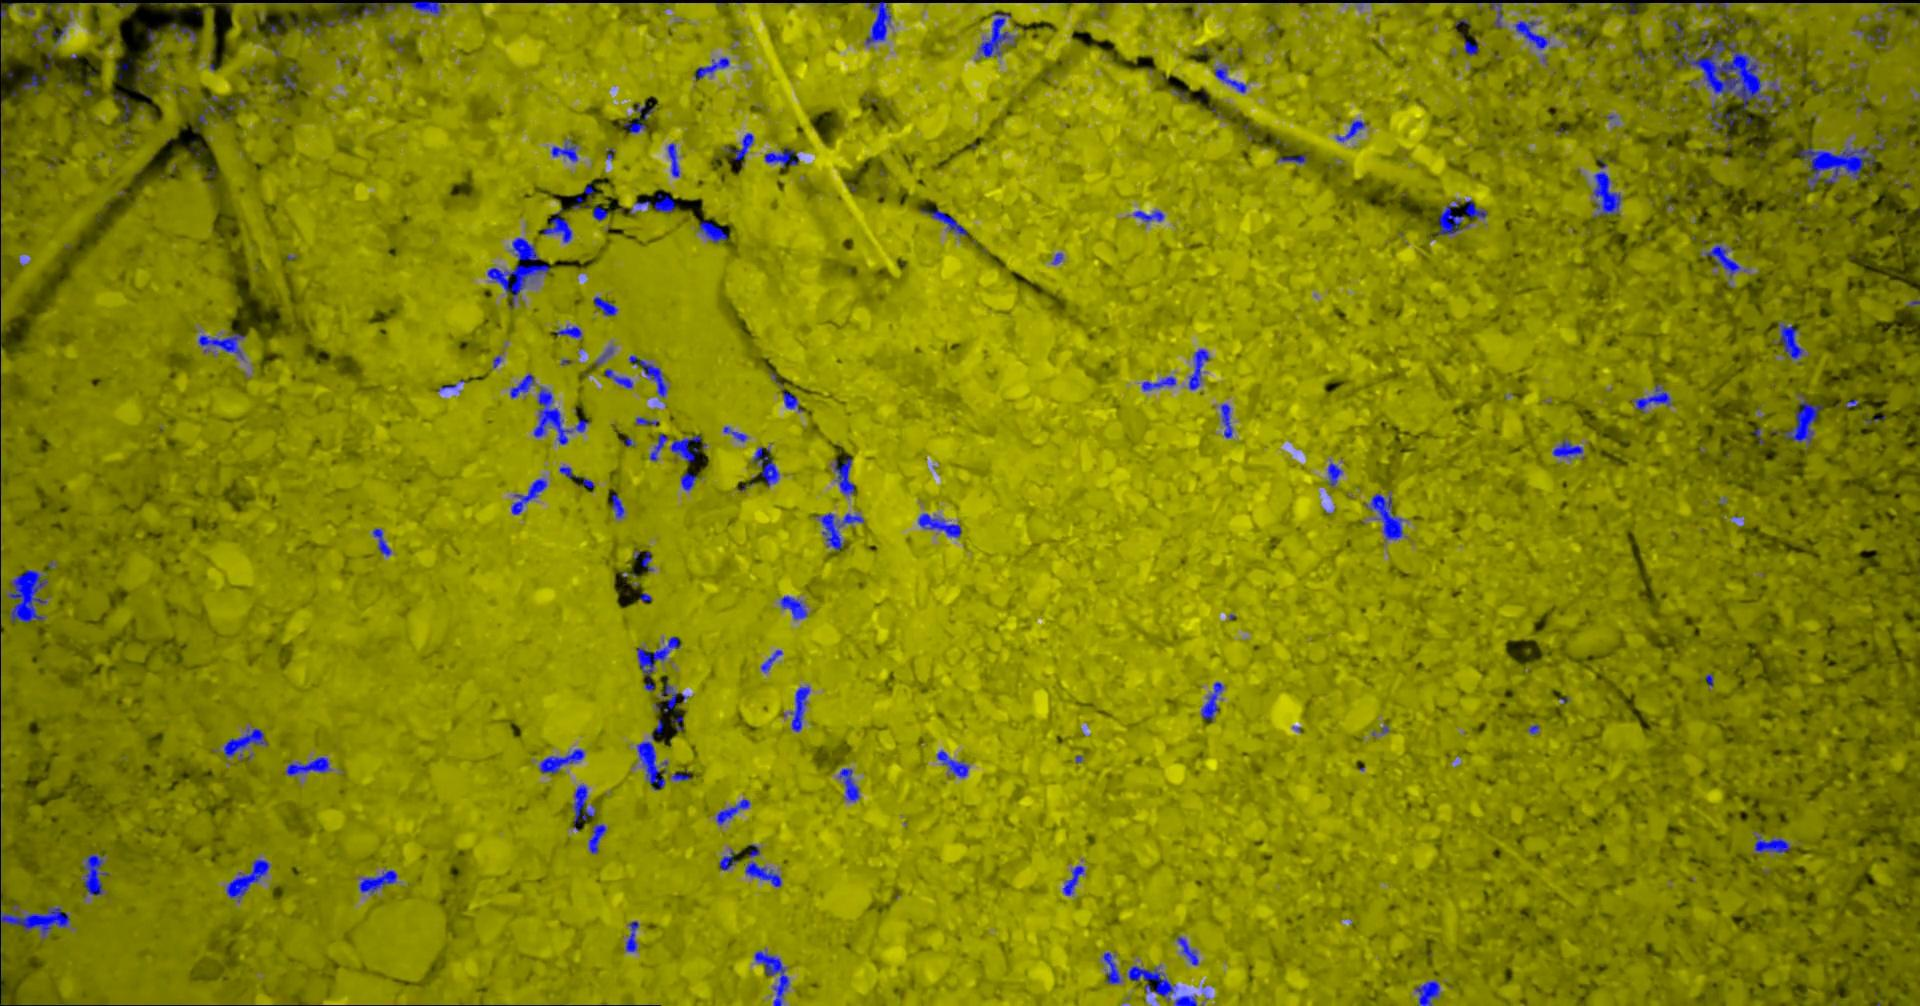ant: (533, 386, 589, 445), (636, 636, 681, 690), (1782, 392, 1821, 443), (753, 949, 789, 1005), (225, 859, 270, 901), (814, 512, 863, 550), (1592, 158, 1622, 217), (1365, 492, 1402, 539), (1128, 965, 1176, 1001), (636, 733, 667, 789), (978, 11, 1015, 57), (629, 354, 667, 398), (744, 843, 781, 887), (223, 727, 267, 760), (1773, 321, 1803, 365), (510, 478, 546, 514), (1705, 245, 1746, 277), (197, 333, 244, 359), (919, 210, 968, 235), (863, 0, 890, 44), (1437, 199, 1470, 235), (538, 748, 584, 774), (571, 784, 596, 829), (1632, 384, 1671, 412), (752, 446, 778, 486), (917, 513, 961, 537), (1512, 20, 1548, 50), (83, 854, 107, 895), (541, 211, 571, 243), (1708, 102, 1742, 130), (1200, 681, 1223, 721), (789, 685, 809, 730), (936, 749, 969, 777), (358, 869, 396, 893), (715, 798, 749, 824), (284, 756, 331, 775), (623, 102, 653, 132), (1214, 64, 1246, 91), (833, 457, 855, 495), (383, 0, 442, 14), (724, 132, 753, 160), (693, 56, 729, 79), (1189, 349, 1209, 389), (670, 434, 700, 461), (634, 193, 674, 212), (654, 680, 676, 713), (198, 95, 223, 123), (1754, 835, 1790, 854), (764, 146, 799, 166), (778, 594, 806, 619), (1550, 438, 1583, 459), (1335, 119, 1365, 141), (1062, 865, 1083, 895), (839, 767, 858, 801), (698, 221, 728, 243), (1176, 936, 1197, 965), (509, 373, 535, 398), (1102, 951, 1121, 983), (1415, 981, 1439, 1005), (587, 823, 606, 854), (30, 19, 52, 46), (550, 140, 577, 161), (20, 72, 47, 93), (604, 368, 632, 387), (372, 528, 391, 556), (759, 649, 782, 672), (781, 387, 803, 412), (1142, 375, 1175, 390), (325, 3, 347, 25), (1865, 27, 1888, 48), (170, 23, 196, 42), (116, 91, 131, 123), (649, 433, 667, 460), (665, 144, 679, 177), (593, 296, 617, 315), (1665, 19, 1684, 42), (1464, 199, 1486, 218), (717, 848, 737, 870), (1487, 0, 1502, 27), (1220, 403, 1232, 438), (1133, 210, 1164, 222), (625, 920, 637, 951), (554, 325, 582, 339), (723, 426, 747, 441), (1327, 462, 1342, 486), (594, 345, 613, 365), (1275, 152, 1309, 163), (611, 493, 623, 518), (1173, 995, 1203, 1005), (681, 473, 697, 490), (1610, 3, 1636, 14), (303, 20, 321, 36), (0, 160, 6, 201), (590, 205, 607, 220), (361, 3, 378, 17), (1721, 14, 1733, 33), (640, 551, 651, 572), (281, 72, 295, 89), (559, 466, 578, 478), (670, 770, 690, 781), (1463, 39, 1477, 55), (0, 3, 5, 37), (635, 417, 657, 424), (0, 238, 1, 295)
